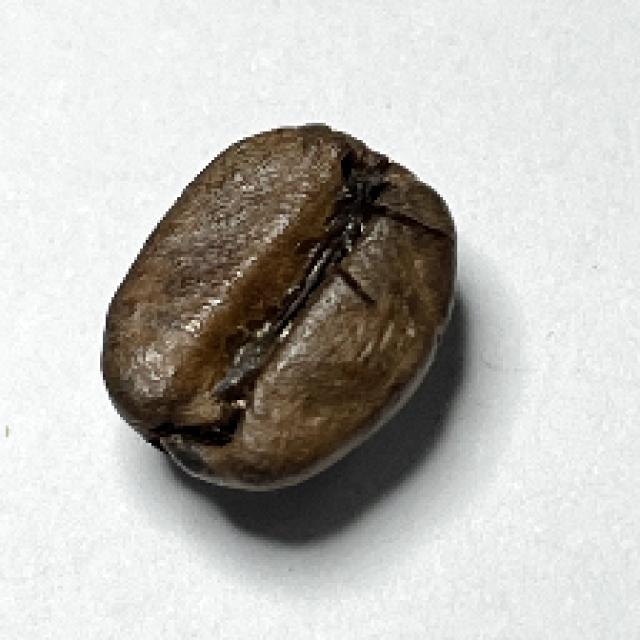bean: (94, 121, 459, 492)
